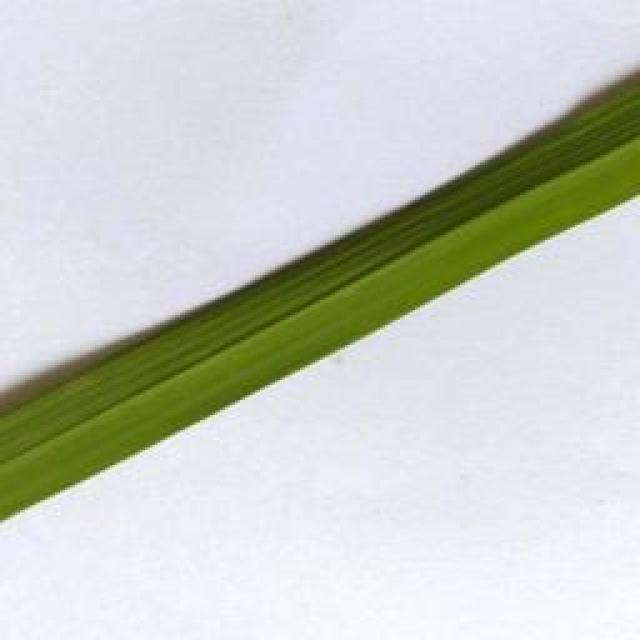Healthy-Plant: (2, 60, 640, 539)
